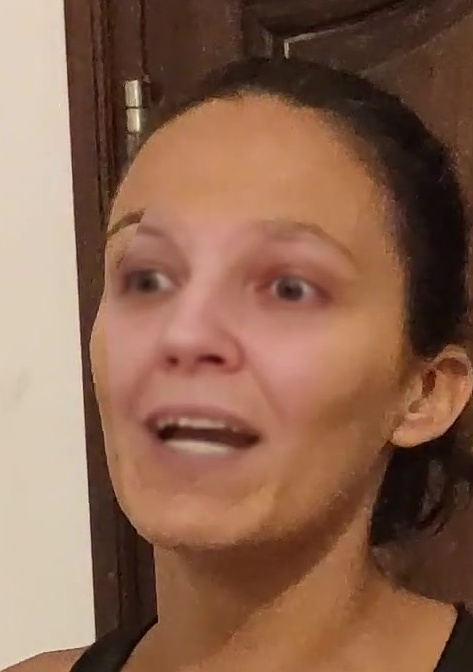eb_f: (105, 201, 371, 312)
